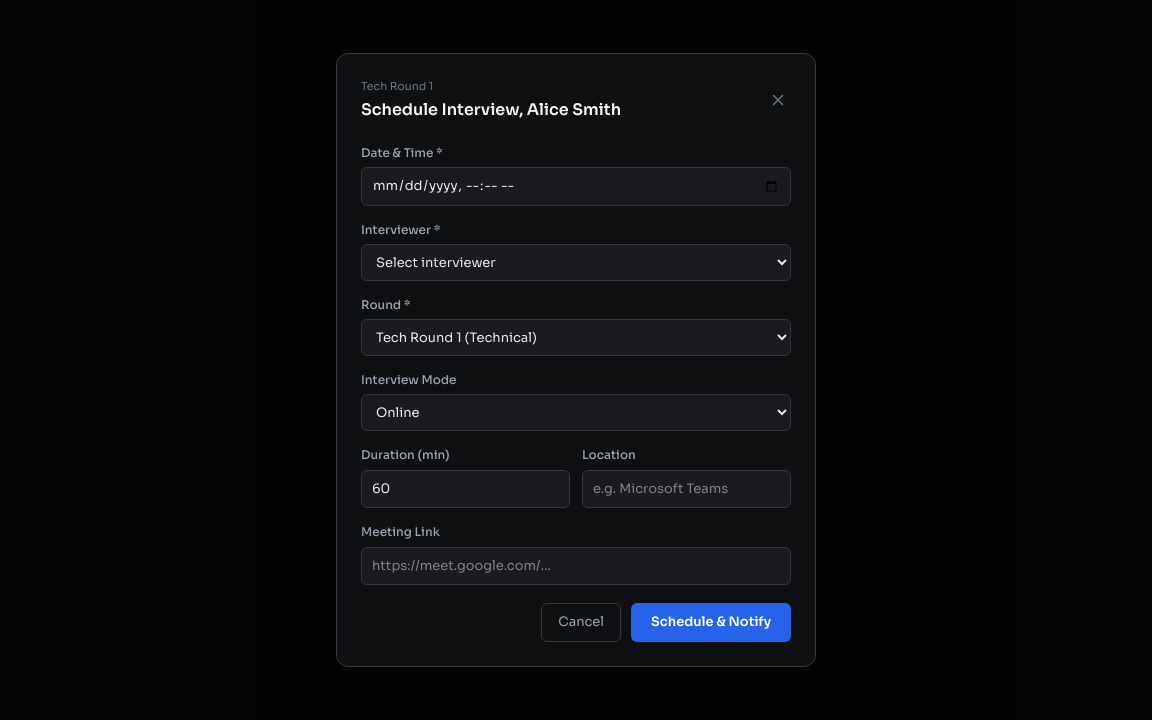
Test: InterviewScheduleModal › shows validation error and does not submit when date is in the past
Type "2020-01-01T10:00" into the field labelled "Date & Time *" at (576, 186), box [361,167,791,206]
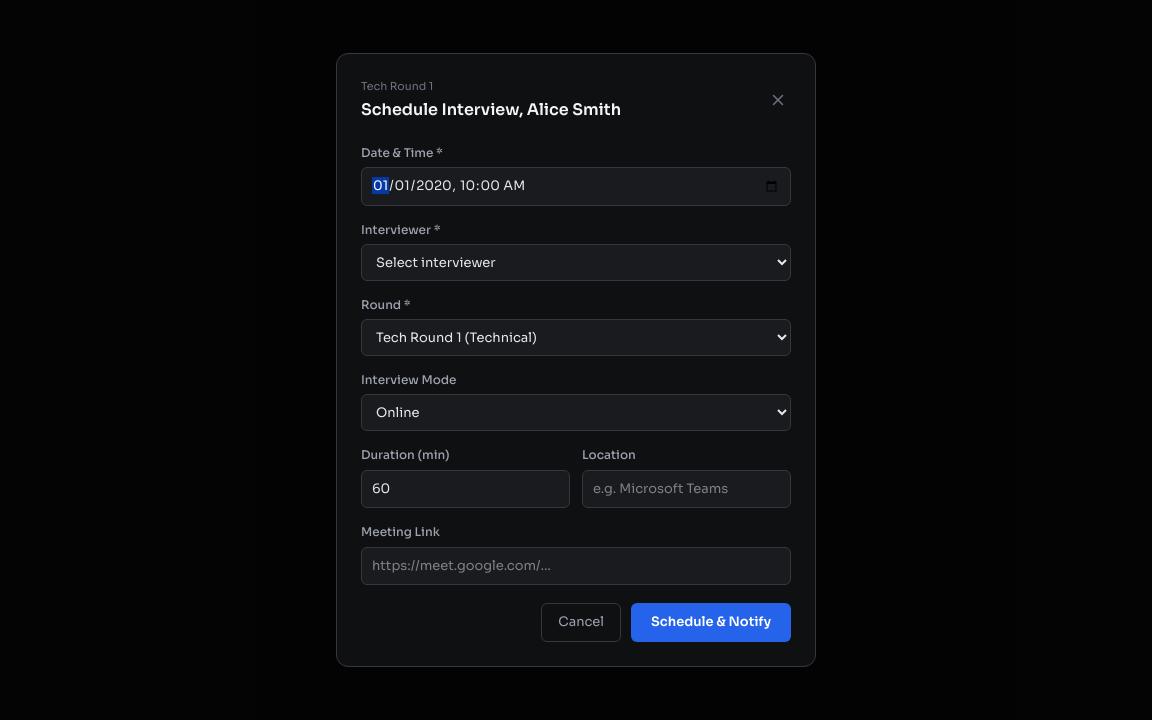
Click the button "Schedule & Notify" at (711, 623), box [631,604,791,642]
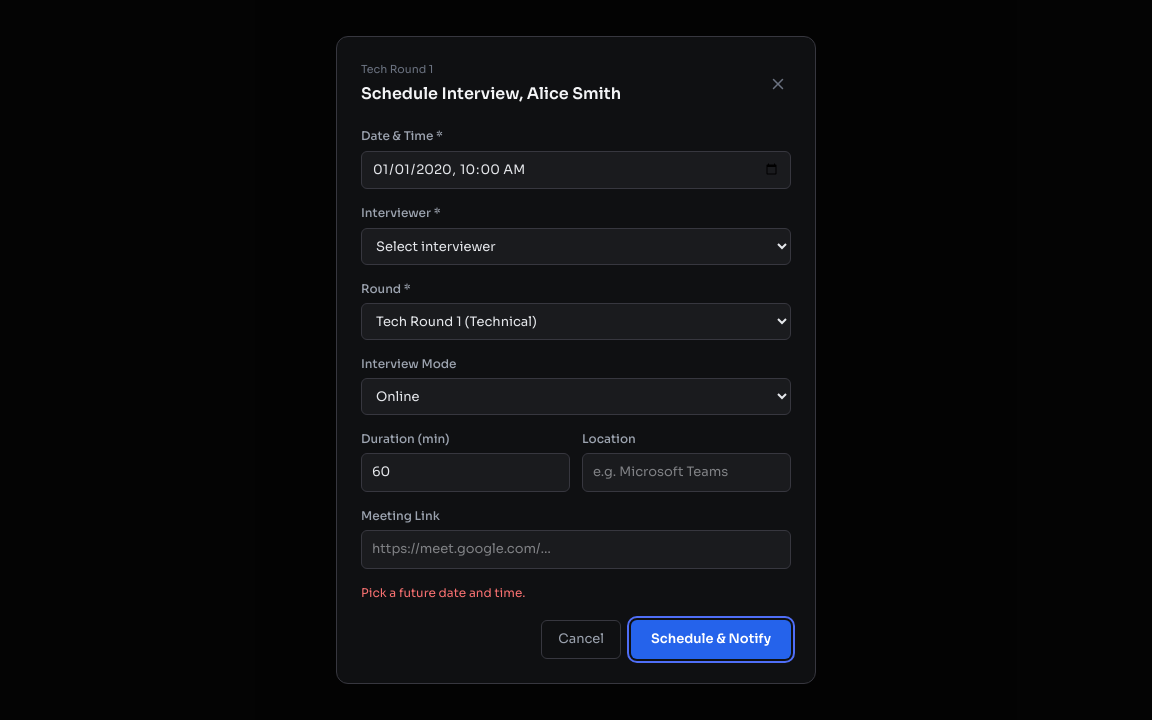
Check: the text "Pick a future date and time." is shown, box [361,585,525,600]
